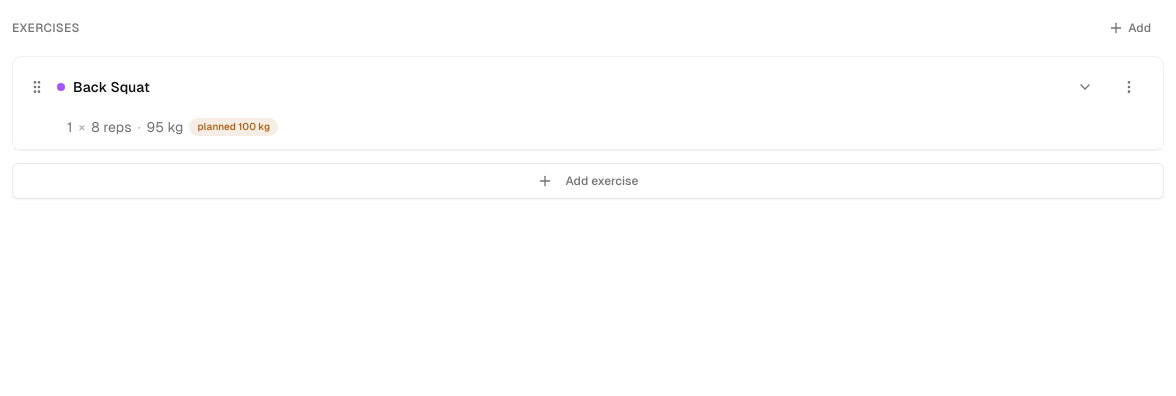
Test: ExerciseTable drag handle › renders readable planned diffs and expands the inline editor on tap
Expected: the text with test id "exercise-row-planned-diff" reads "planned 100 kg", x1=198 y1=121 x2=270 y2=132
Click the button with aria-label "Edit Back Squat" at (111, 127), box x1=13 y1=117 x2=1163 y2=149
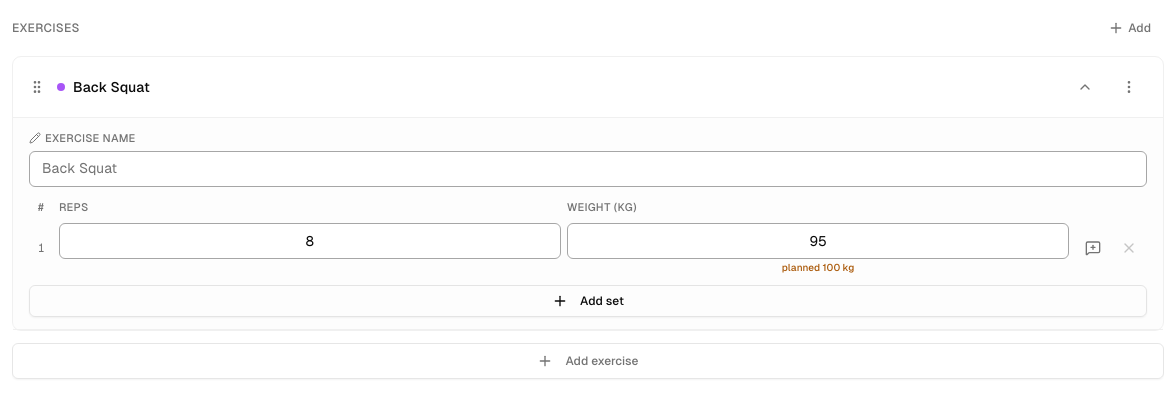
Expected: the text with test id "planned-weight-set-diff" reads "planned 100 kg", x1=782 y1=262 x2=854 y2=273
Expected: the element with test id "set-row-set-diff" is shown, x1=29 y1=223 x2=1147 y2=273
